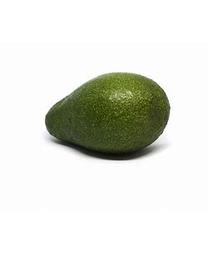avocado: (45, 72, 171, 161)
